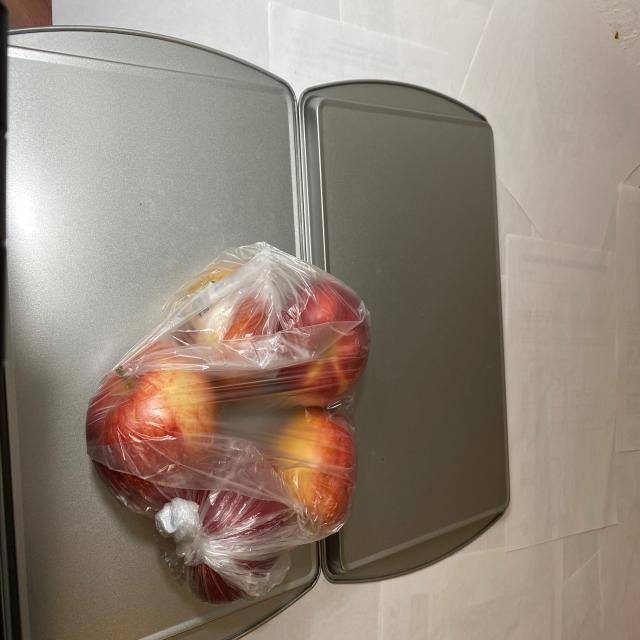apple: (76, 243, 371, 609)
